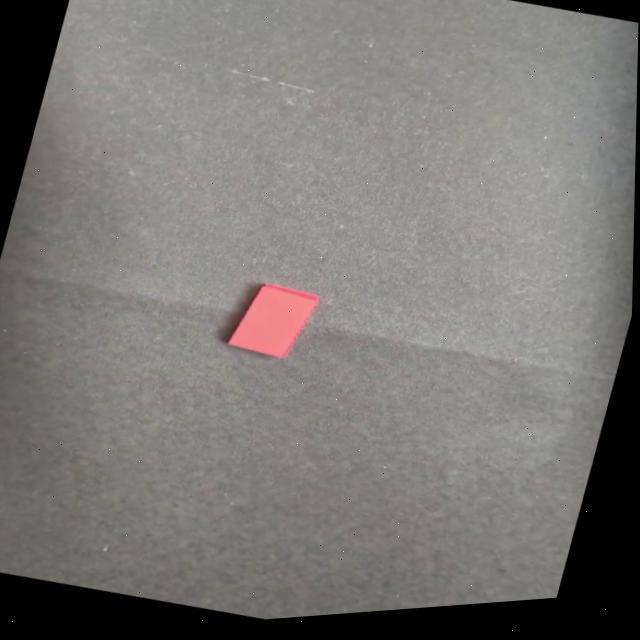red block: (222, 273, 321, 369)
